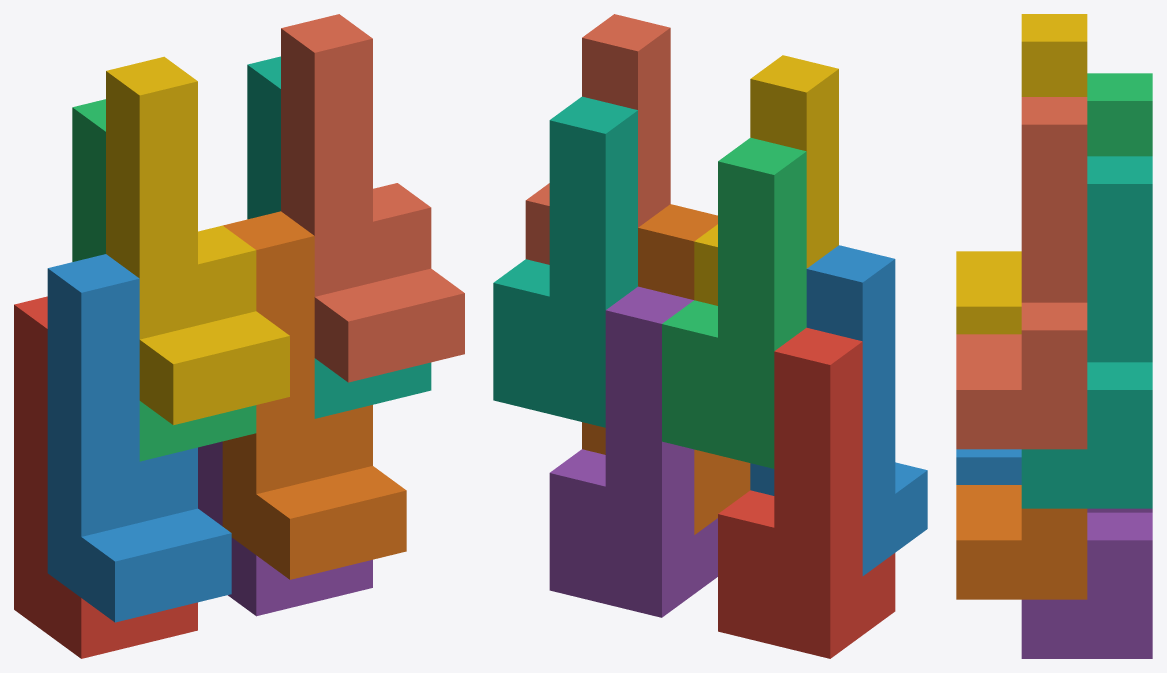
File: tiling.obj
The picture shows the model from 3 angles, left to right: view 1: azimuth 30°, elevation 25°; view 2: azimuth 150°, elevation 25°; view 3: azimuth 270°, elevation 25°; orthographic projection. The views are drawn at different scales.
Visible parts, largest first — view 1: copy_1_domain_2, copy_1_domain_4, copy_1_domain_8, copy_1_domain_6, copy_1_domain_1, copy_1_domain_7, copy_1_domain_3, copy_1_domain_5; view 2: copy_1_domain_1, copy_1_domain_5, copy_1_domain_3, copy_1_domain_7, copy_1_domain_2, copy_1_domain_8, copy_1_domain_4, copy_1_domain_6; view 3: copy_1_domain_8, copy_1_domain_7, copy_1_domain_5, copy_1_domain_6, copy_1_domain_4, copy_1_domain_3, copy_1_domain_2.
Boxes of the visible parts, bbox=[...] form: copy_1_domain_2: bbox=[47, 254, 231, 622]; copy_1_domain_4: bbox=[106, 56, 289, 425]; copy_1_domain_8: bbox=[281, 14, 464, 382]; copy_1_domain_6: bbox=[222, 211, 406, 579]; copy_1_domain_1: bbox=[14, 296, 197, 658]; copy_1_domain_7: bbox=[247, 56, 431, 418]; copy_1_domain_3: bbox=[72, 99, 256, 461]; copy_1_domain_5: bbox=[198, 441, 372, 616]; copy_1_domain_1: bbox=[718, 327, 895, 658]; copy_1_domain_5: bbox=[549, 286, 717, 617]; copy_1_domain_3: bbox=[662, 137, 806, 468]; copy_1_domain_7: bbox=[493, 96, 637, 427]; copy_1_domain_2: bbox=[750, 245, 927, 575]; copy_1_domain_8: bbox=[525, 14, 670, 264]; copy_1_domain_4: bbox=[694, 55, 838, 305]; copy_1_domain_6: bbox=[582, 204, 750, 534]; copy_1_domain_8: bbox=[956, 97, 1087, 449]; copy_1_domain_7: bbox=[1021, 156, 1152, 508]; copy_1_domain_5: bbox=[1021, 508, 1152, 658]; copy_1_domain_6: bbox=[956, 485, 1087, 599]; copy_1_domain_4: bbox=[956, 14, 1087, 334]; copy_1_domain_3: bbox=[1087, 73, 1152, 156]; copy_1_domain_2: bbox=[956, 449, 1021, 484].
Bounding box in the file's own units: 6 × 9 × 3.
